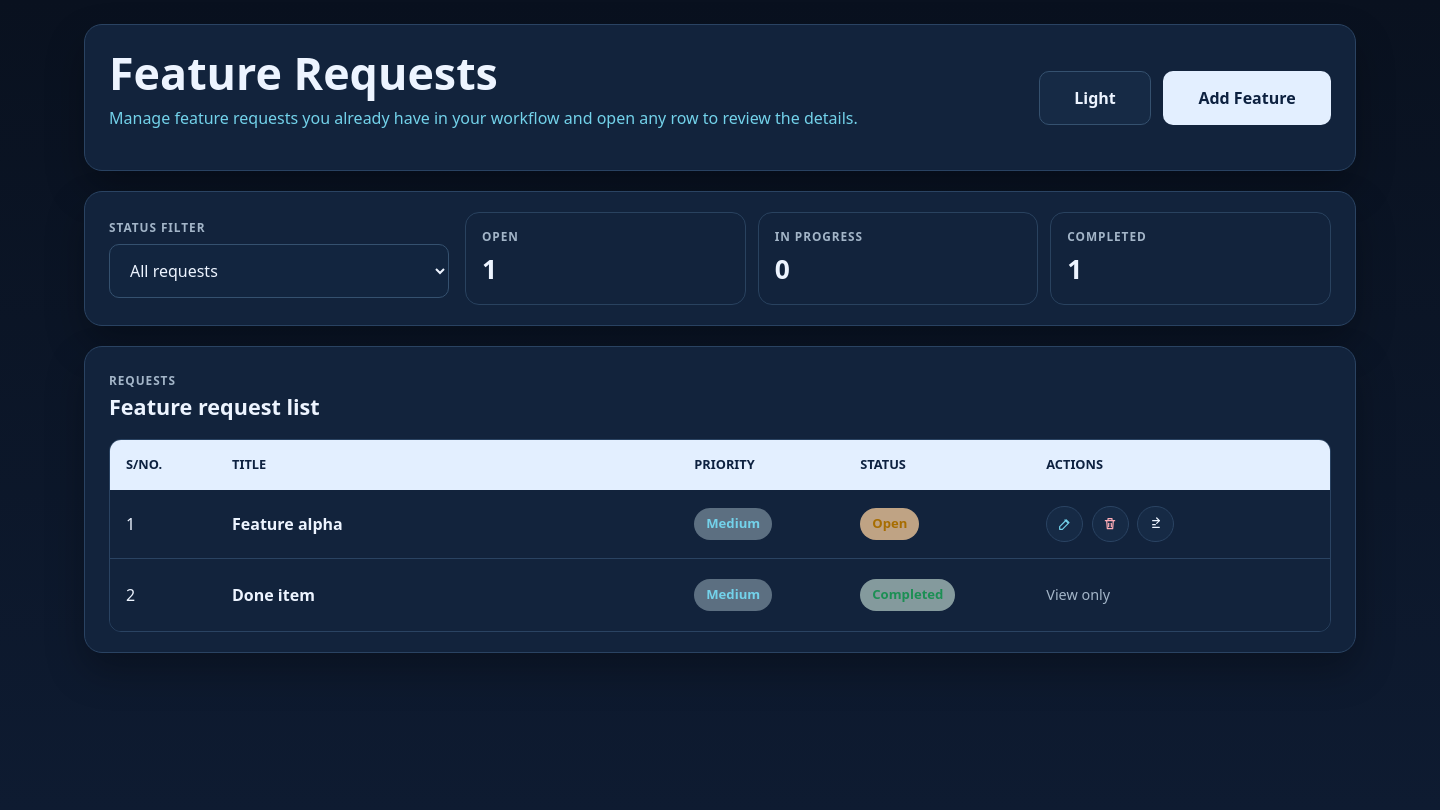
Test: App › loads features and opens the view modal when a row is clicked
Expected: the text "Feature alpha" is shown, x1=232 y1=513 x2=343 y2=535
Click the button "1 Feature alpha Medium Open" at (720, 524), box x1=110 y1=490 x2=1330 y2=559
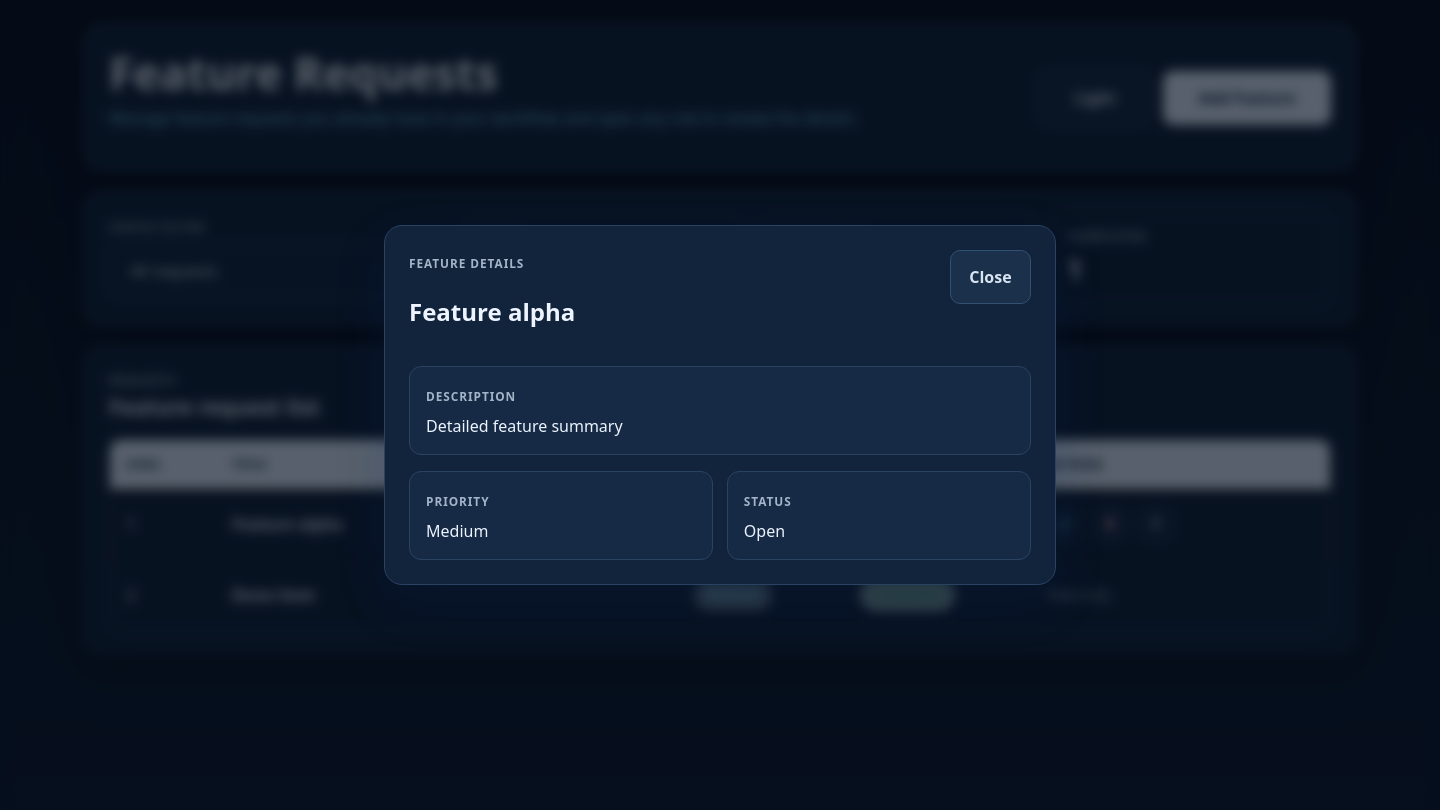
Now the text "Feature details" is shown, box x1=409 y1=255 x2=524 y2=271
Now the text "Detailed feature summary" is shown, box x1=426 y1=415 x2=623 y2=437
